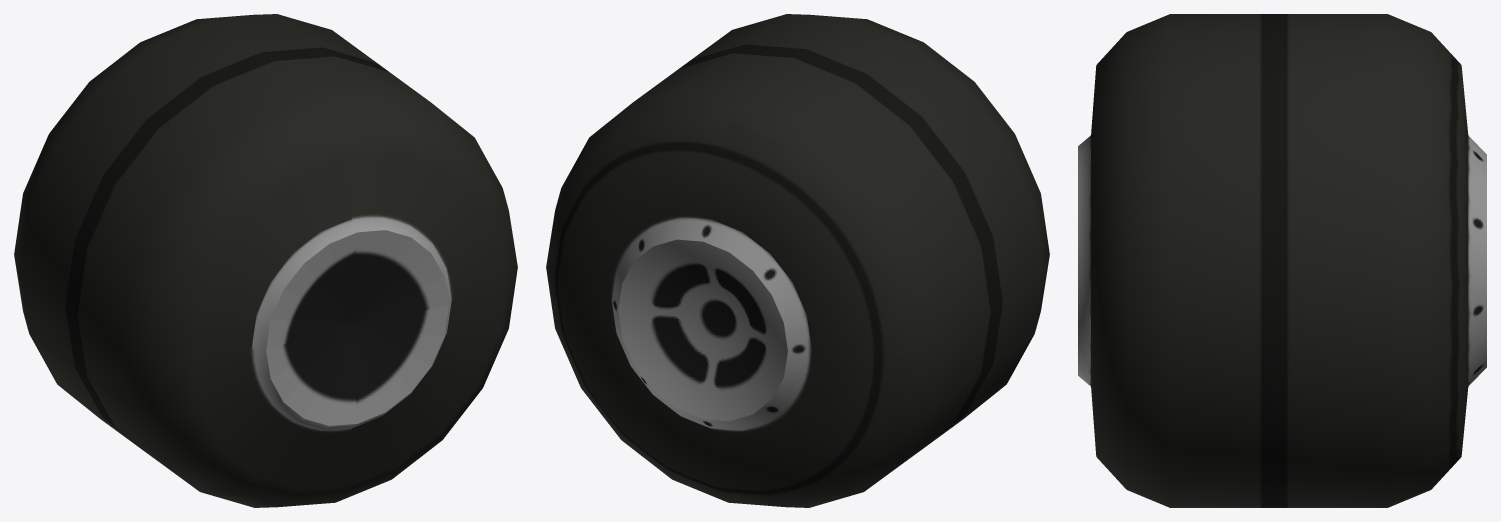
Rendered from wheel-round.glb.
3 renders of one model, left to right at view 1: azimuth 30°, elevation 25°; view 2: azimuth 150°, elevation 25°; view 3: azimuth 270°, elevation 25°, orthographic. The views are drawn at different scales.
Visible parts, largest first — view 1: Wheel.Round.Source; view 2: Wheel.Round.Source; view 3: Wheel.Round.Source.
Part boxes in pixels (left/top/right/bottom): Wheel.Round.Source: left=14, top=14, right=517, bottom=507; Wheel.Round.Source: left=546, top=14, right=1049, bottom=507; Wheel.Round.Source: left=1078, top=14, right=1486, bottom=507.
Size of the model in its own units: 0.491 by 0.491 by 0.4033.
1 material, 1 textured.
